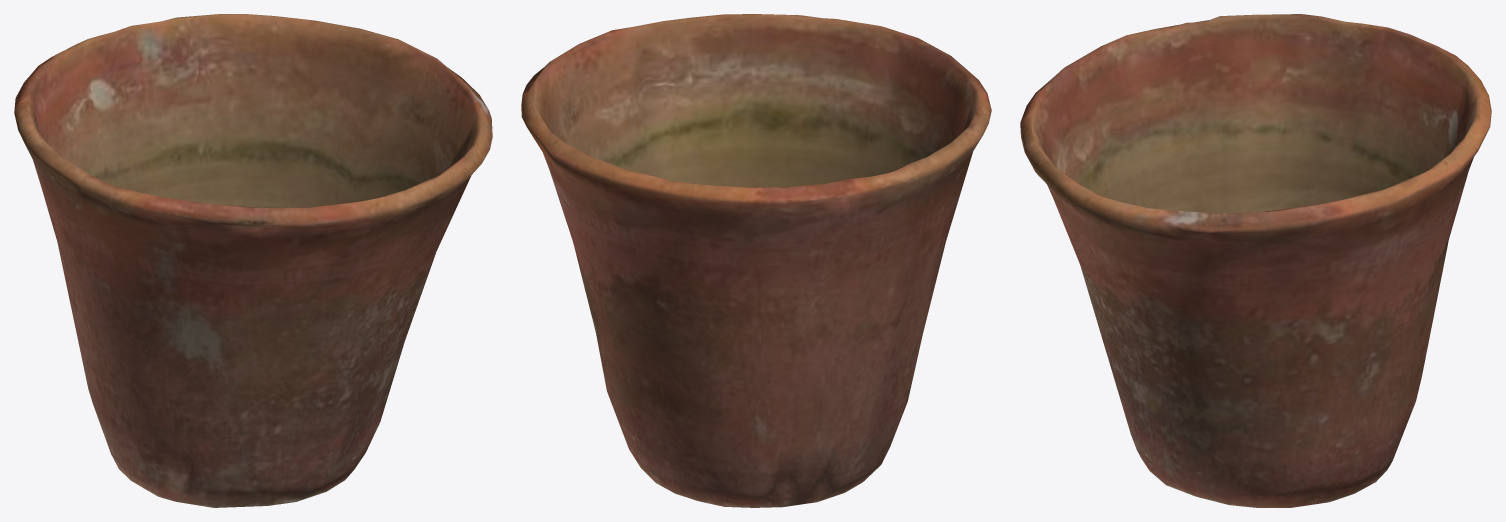
Rendered from planter_pot_clay.glb.
The picture shows the model from 3 angles, left to right: view 1: azimuth 30°, elevation 25°; view 2: azimuth 150°, elevation 25°; view 3: azimuth 270°, elevation 25°; orthographic projection.
Visible parts, largest first — view 1: lod0; view 2: lod0; view 3: lod0.
Boxes of the visible parts, x1=… form: lod0: x1=14, y1=14, x2=492, y2=507; lod0: x1=521, y1=14, x2=991, y2=507; lod0: x1=1020, y1=14, x2=1491, y2=507.
Size of what is drawn, in the model's own units: 0.2662 by 0.2219 by 0.2635.
Materials: 1 (1 with a texture image).
